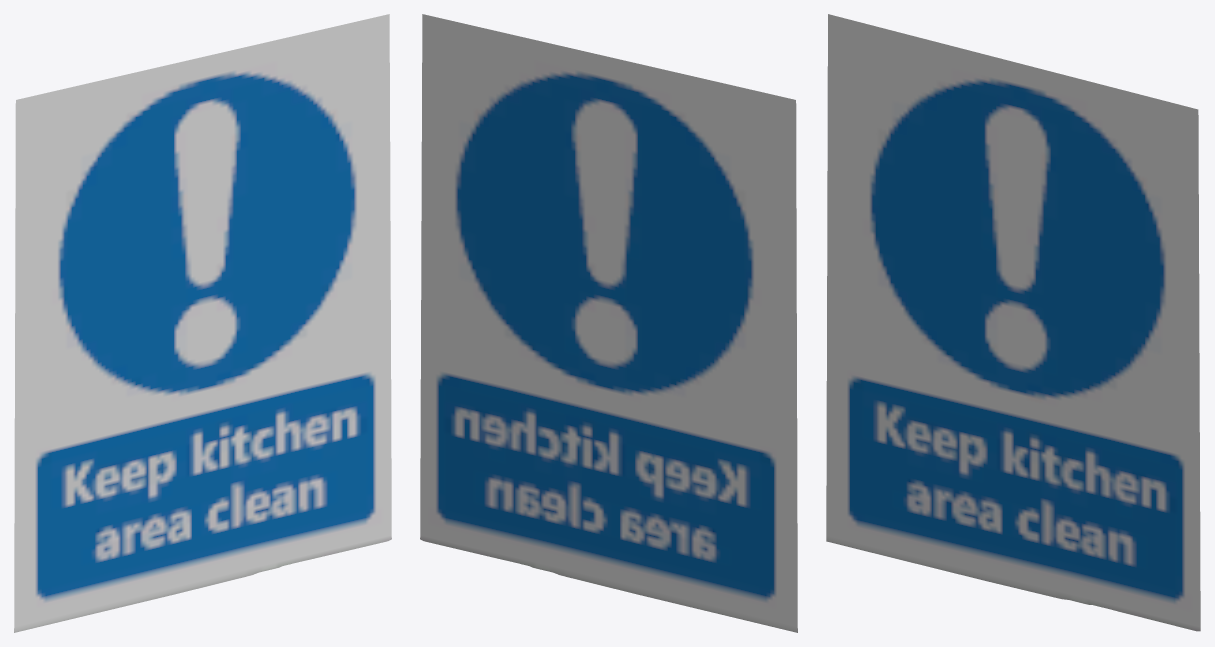
Rendered from SM_Sign_Kitchen_Clean_02.glb.
3 views of the same model, side by side, from view 1: azimuth 30°, elevation 25°; view 2: azimuth 150°, elevation 25°; view 3: azimuth 330°, elevation 25° (orthographic).
Visible parts, largest first — view 1: SM_Sign_Kitchen_Clean_02; view 2: SM_Sign_Kitchen_Clean_02; view 3: SM_Sign_Kitchen_Clean_02.
Boxes of the visible parts, <box> form: SM_Sign_Kitchen_Clean_02: <box>14,14,391,632</box>; SM_Sign_Kitchen_Clean_02: <box>420,14,797,632</box>; SM_Sign_Kitchen_Clean_02: <box>826,14,1200,631</box>.
Bounding box in the file's own units: 0.2243 × 0.3028 × 4.89e-08.
1 material, 1 textured.
